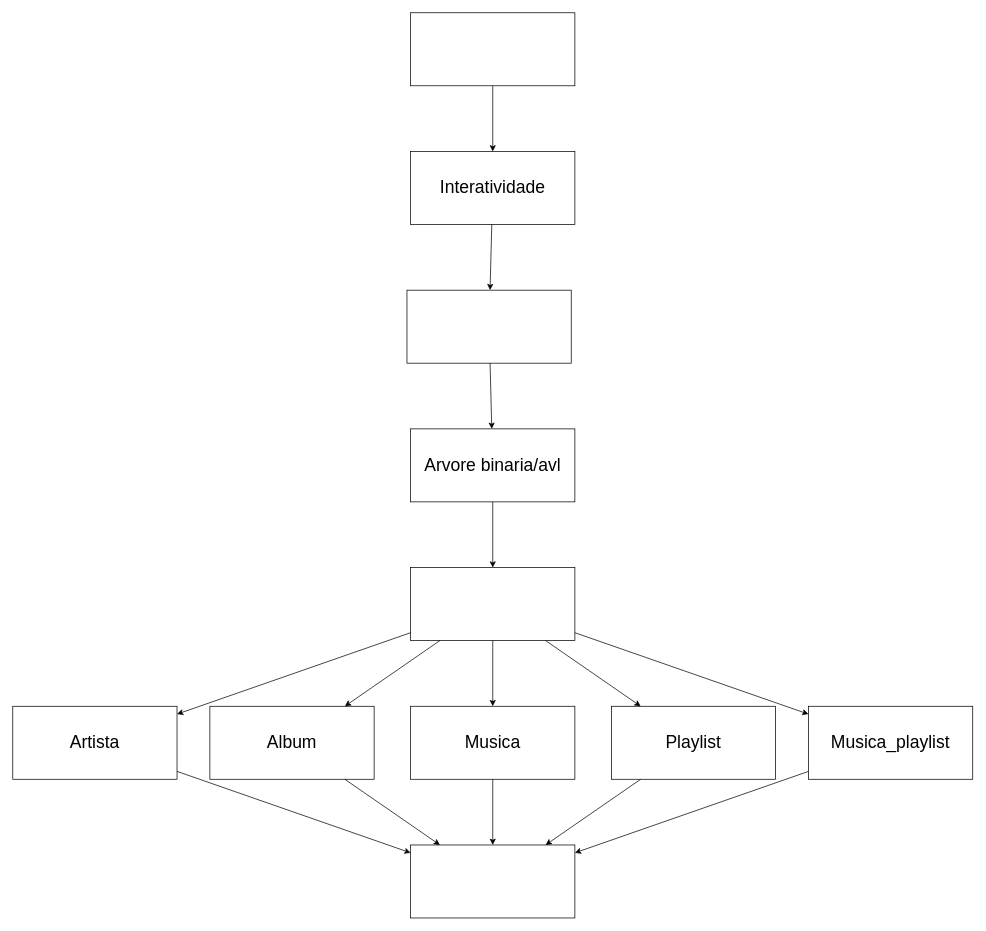
This 986x931 diagram has some shape labels left out. The shapes that lost their labels are listed below. From the top down, each one's box as (x1, y1, x2, y2) in pixels, then its label:
(410, 12, 575, 86): Main
(406, 289, 571, 363): Func_interatividade
(410, 567, 575, 641): Dados
(410, 844, 575, 918): Funcão_sistema
